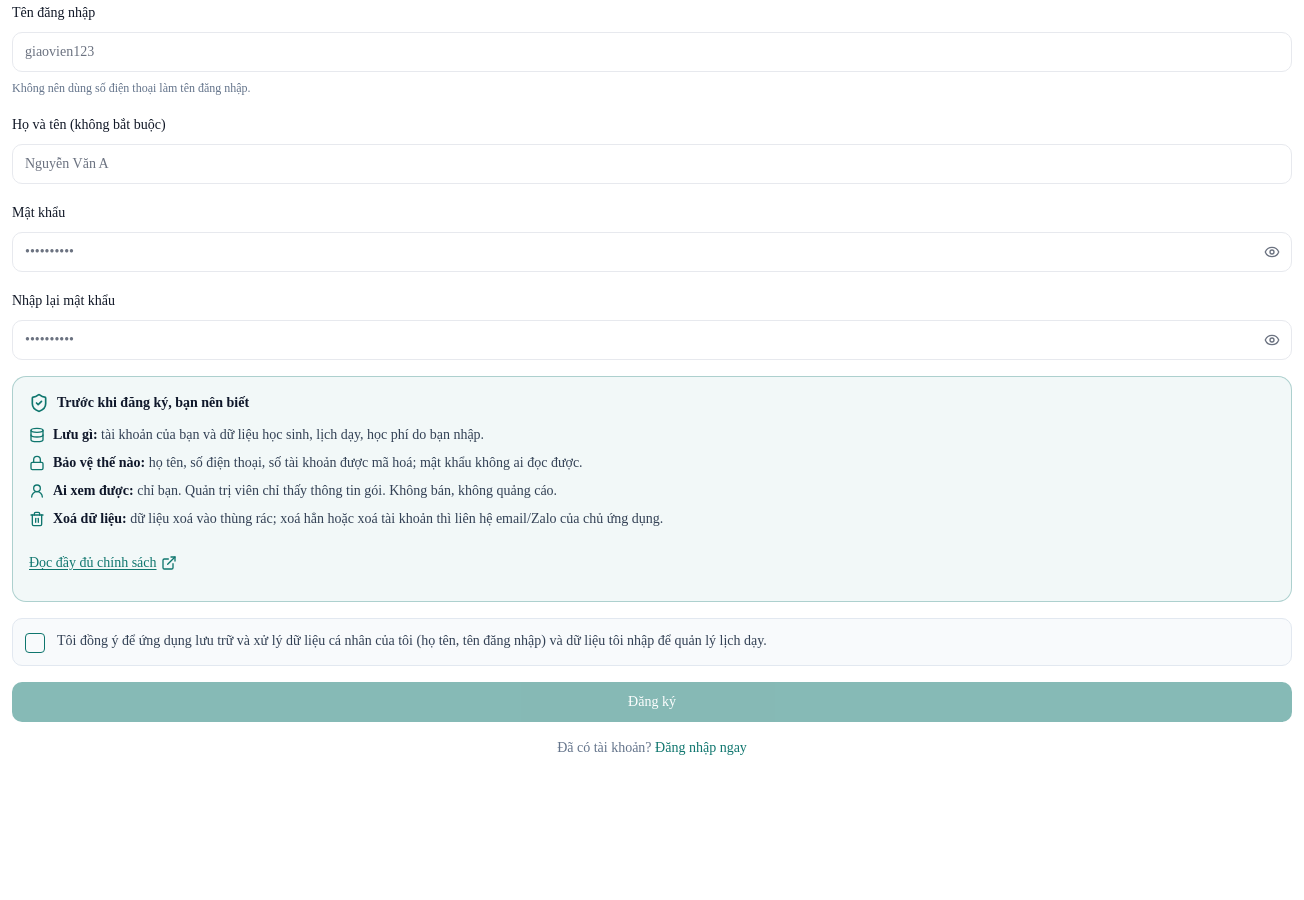
Scenario: RegisterForm: nhập lại mật khẩu (spec X §4) › không khớp → hiện lỗi dưới ô xác nhận, không gọi đăng ký
Type "giaovien_test" into the field labelled "Tên đăng nhập" at (652, 52), box [12,32,1292,72]
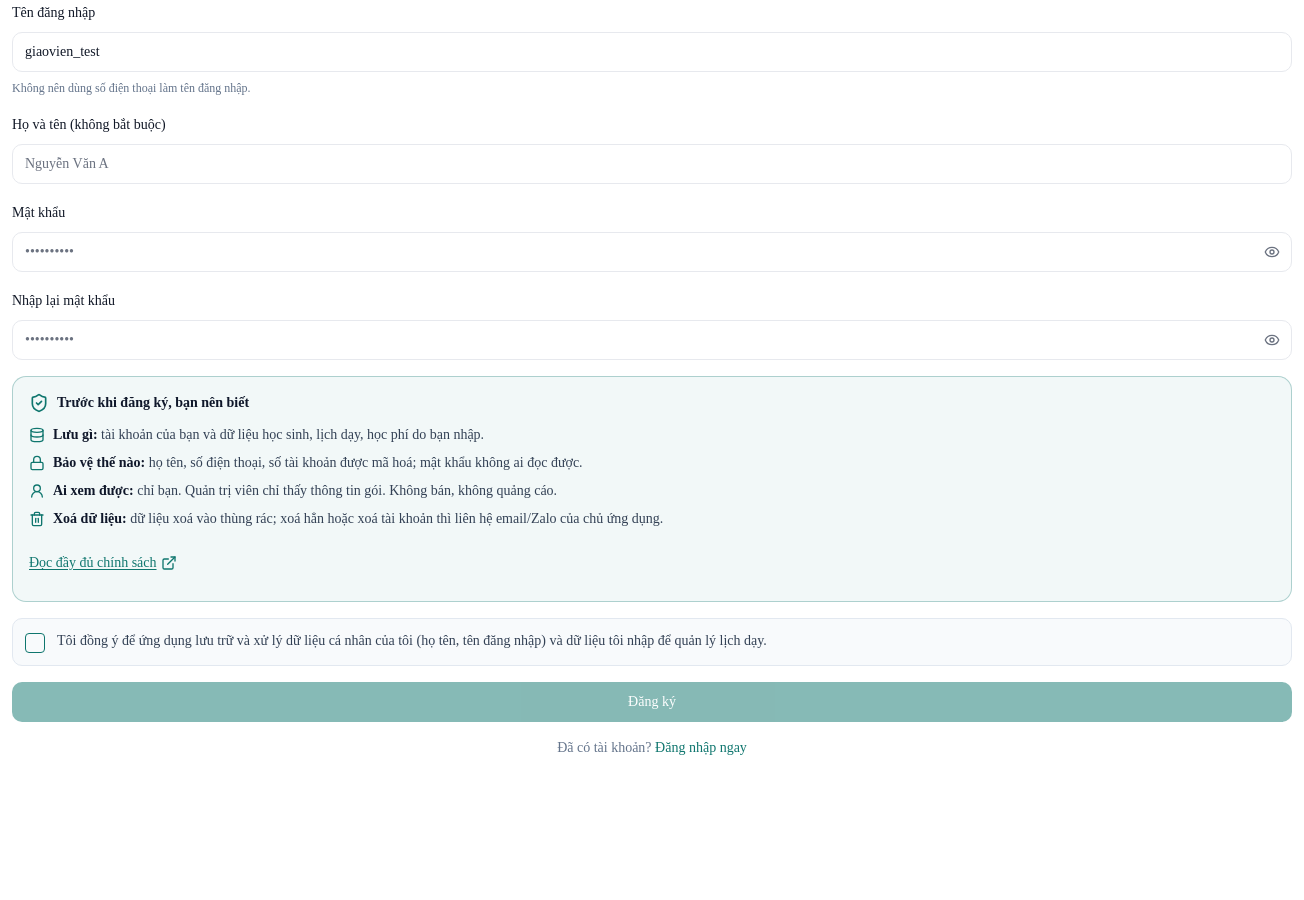
Type "MatKhau123456" into the password field labelled "Mật khẩu" at (652, 252), box [12,232,1292,272]
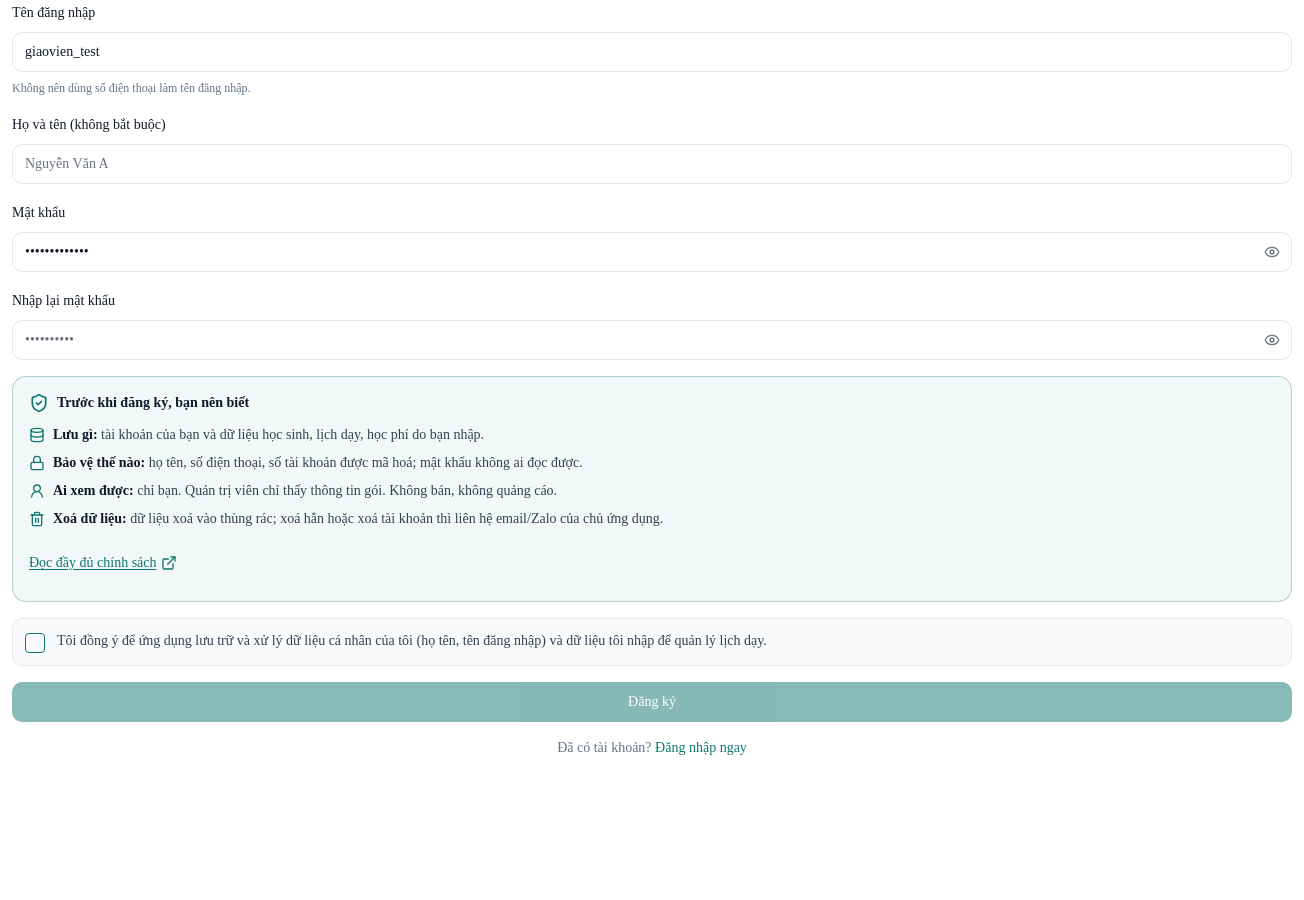
Type "MatKhau654321" into the password field labelled "Nhập lại mật khẩu" at (652, 340), box [12,320,1292,360]
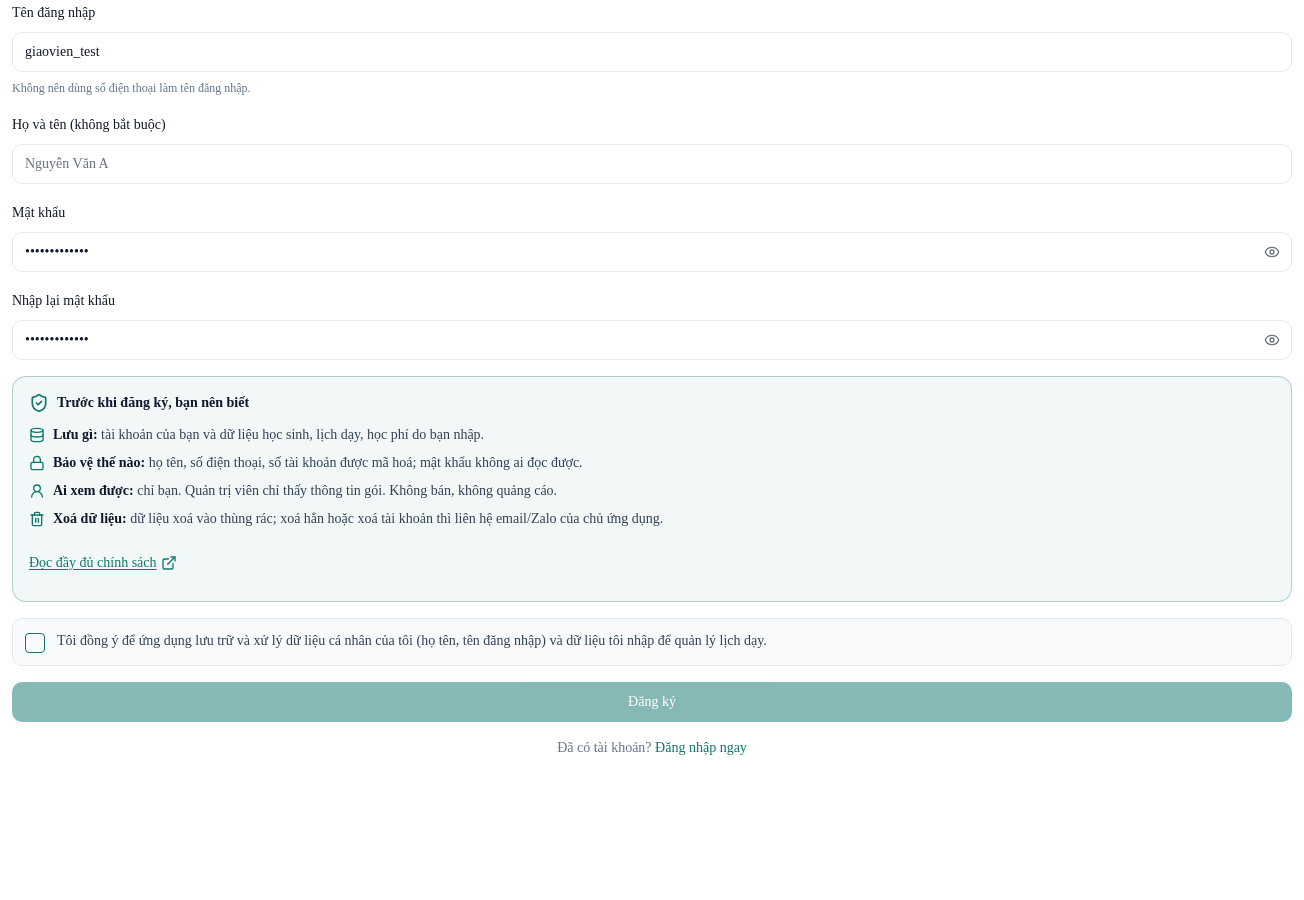
Click the checkbox named "Tôi đồng ý để ứng dụng lưu trữ và xử lý dữ liệu cá nhân của tôi (họ tên, tên đăng nhập) và dữ liệu tôi nhập để quản lý l" at (35, 643), box [25,633,45,653]
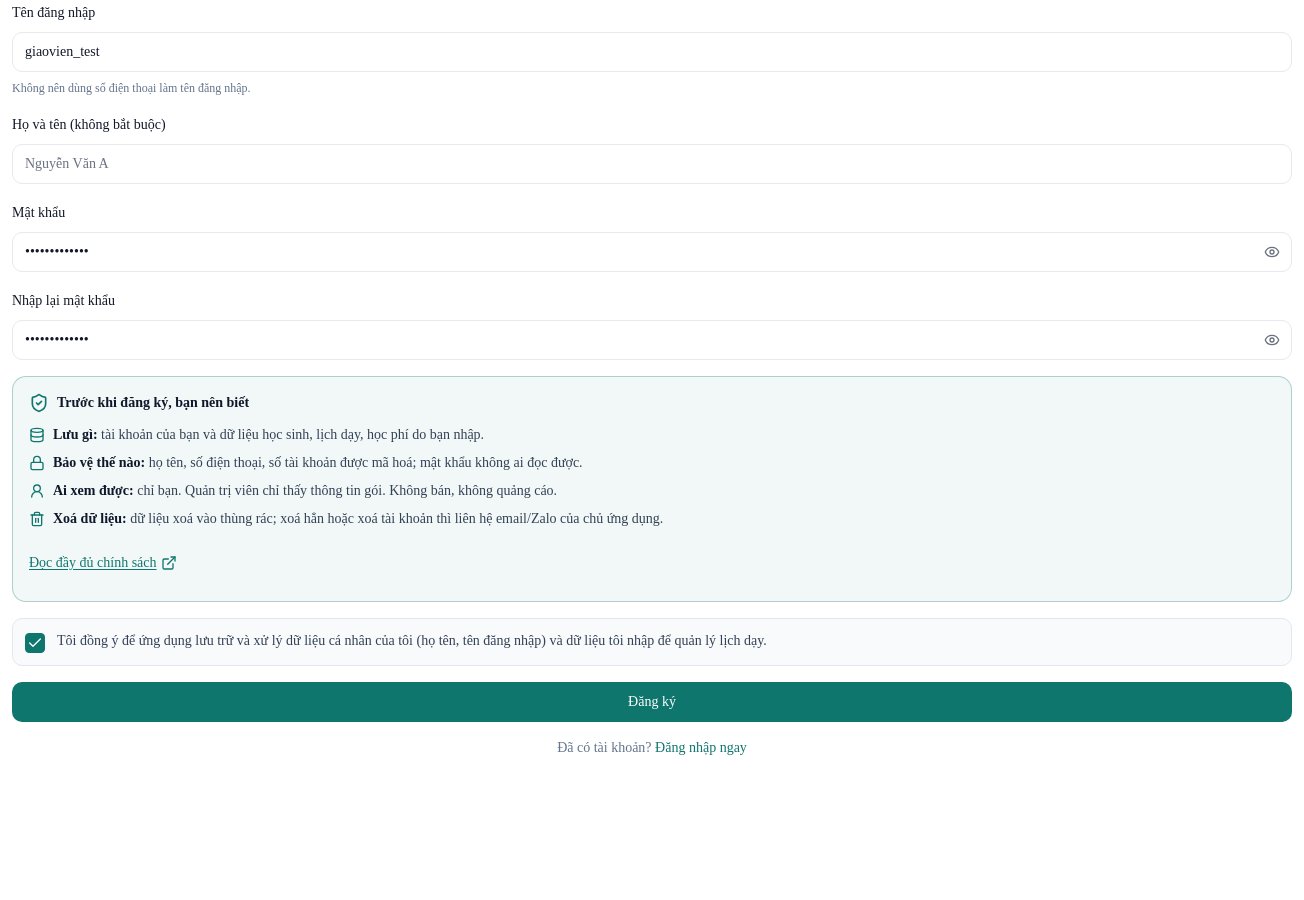
Click the button "Đăng ký" at (652, 702), box [12,682,1292,722]
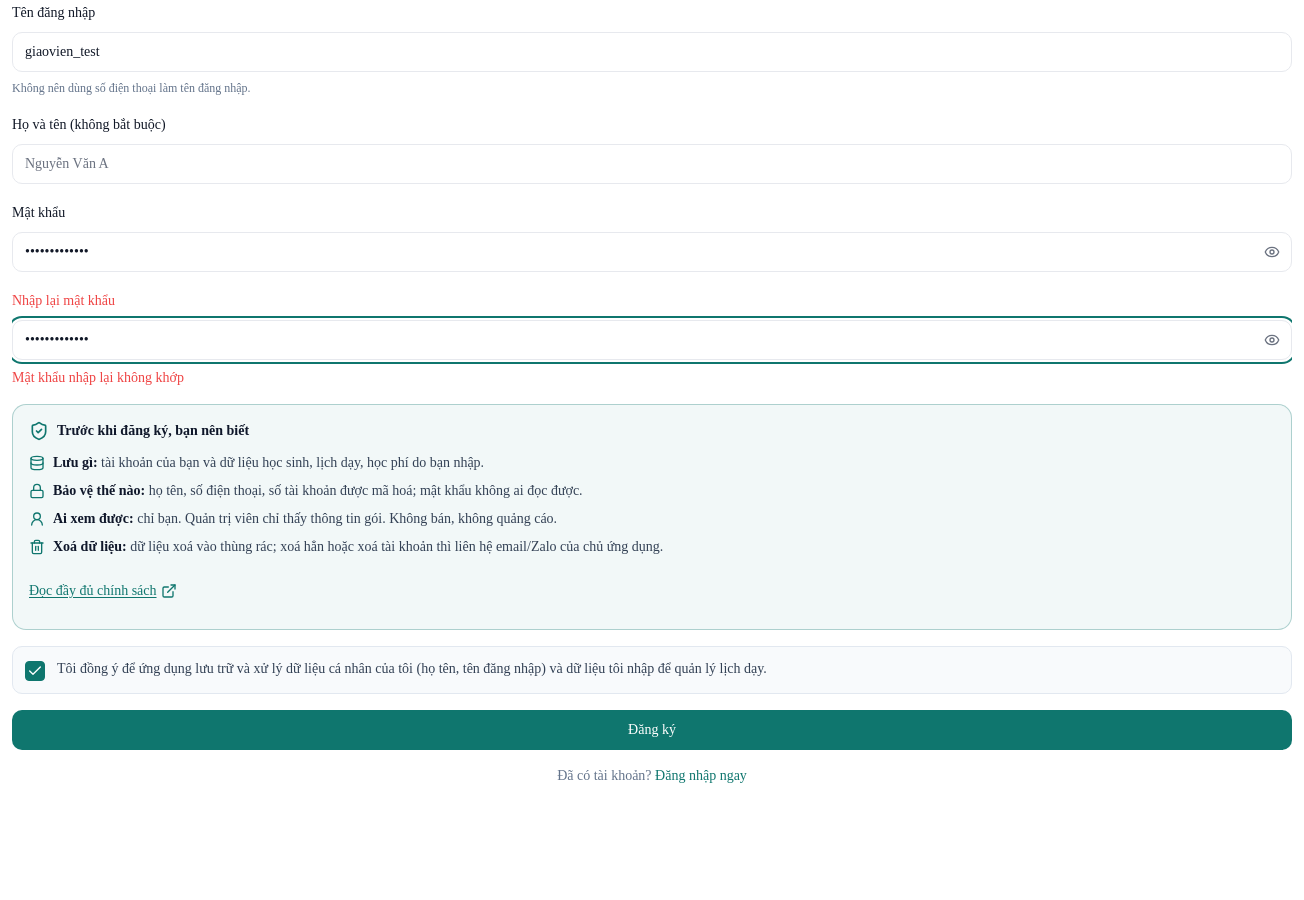
Result: the text "Mật khẩu nhập lại không khớp" is shown at [12,370,184,385]
